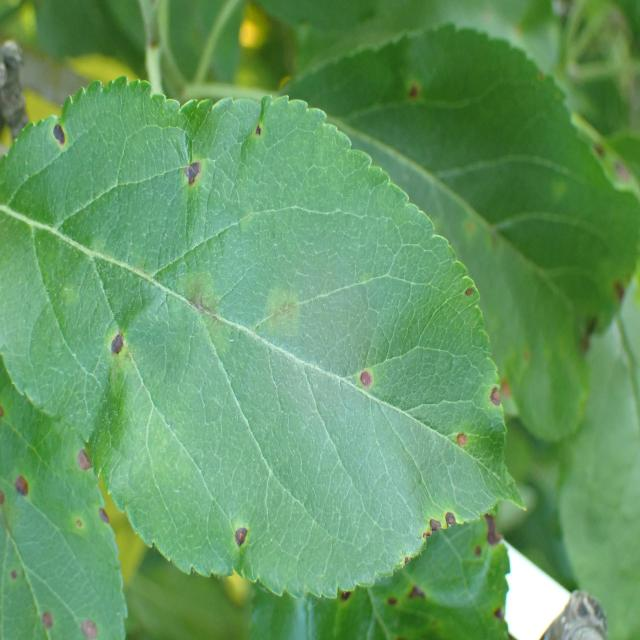frog-eye-leaf-spot: (0, 76, 529, 601), (0, 353, 129, 640)
